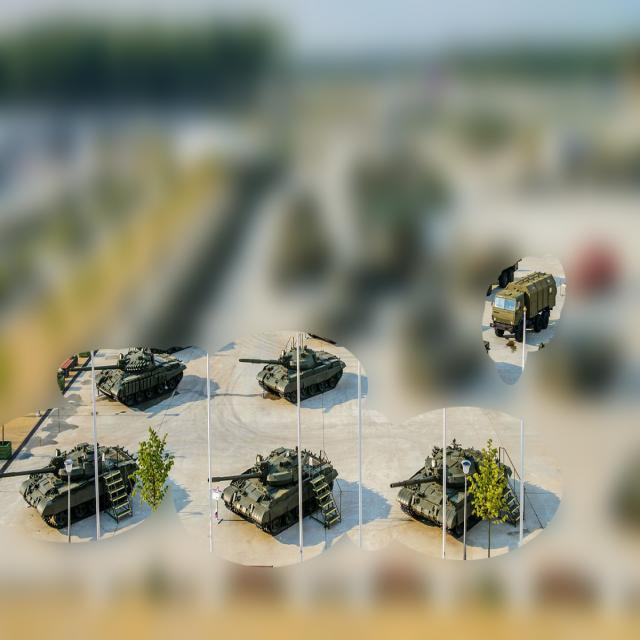tank: (386, 440, 514, 539), (206, 448, 342, 536), (1, 458, 139, 532), (68, 346, 188, 411), (238, 343, 348, 404)
